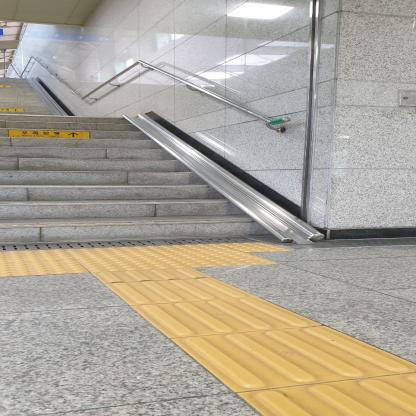go: (168, 325, 416, 394), (131, 297, 324, 338), (103, 278, 259, 305)
stop: (75, 255, 192, 273), (164, 252, 283, 268), (0, 259, 91, 277), (63, 246, 163, 259), (144, 243, 245, 255), (0, 249, 76, 262)
